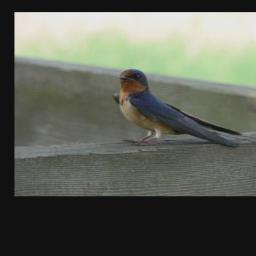Swallow: (111, 67, 256, 150)
